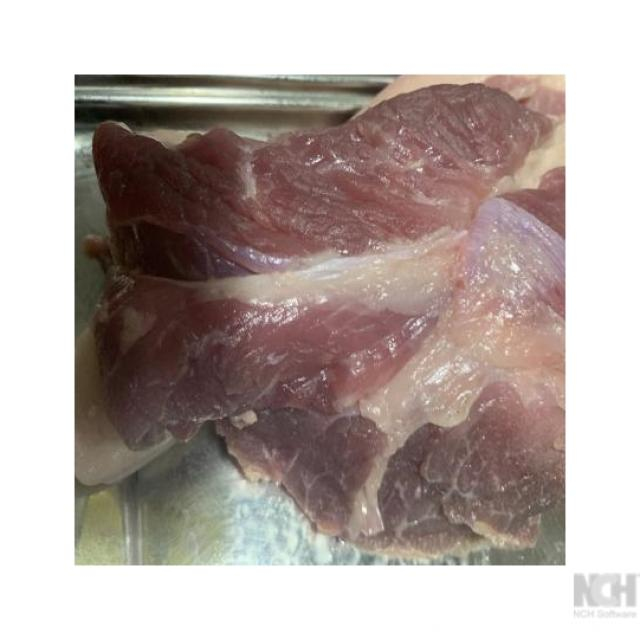rotten meat: (47, 53, 577, 575)
